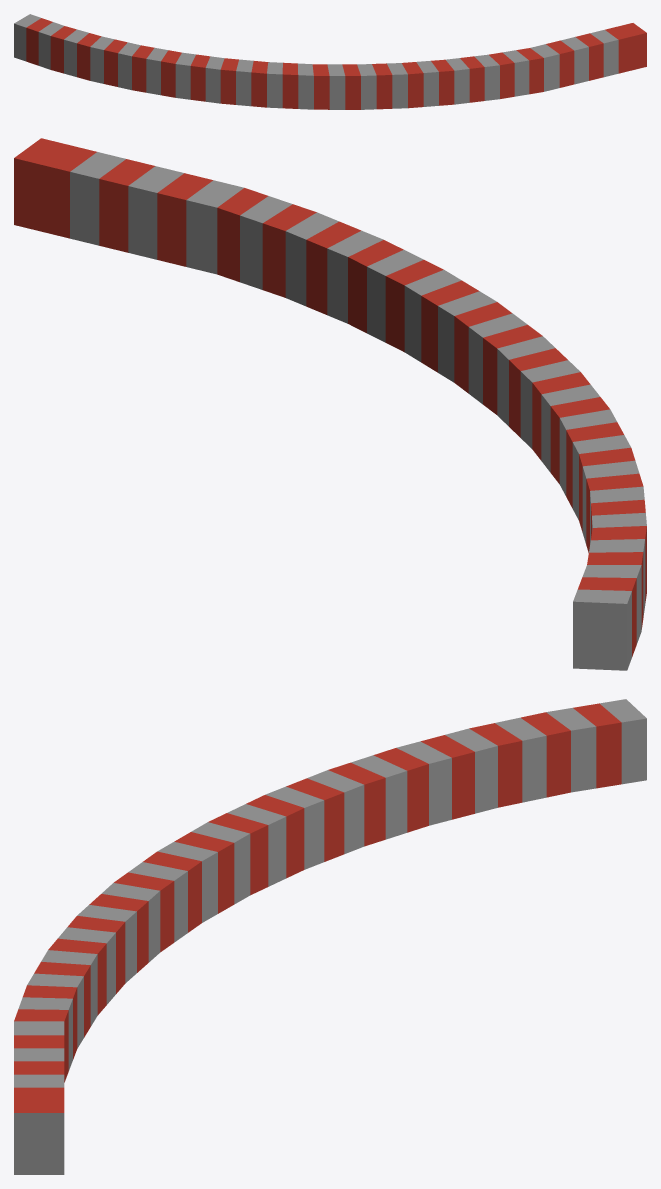
The model's file is blockBrickCurve.fbx.
3 views of the same model, one above another, from view 1: azimuth 30°, elevation 25°; view 2: azimuth 150°, elevation 25°; view 3: azimuth 270°, elevation 25° (orthographic). The views are drawn at different scales.
Visible parts, largest first — view 1: Cube.003; view 2: Cube.003; view 3: Cube.003.
Boxes of the visible parts, <box> form: Cube.003: <box>14,14,646,109</box>; Cube.003: <box>14,138,646,670</box>; Cube.003: <box>14,699,646,1174</box>.
Size of the model in its own units: 2337 by 163 by 1510.
